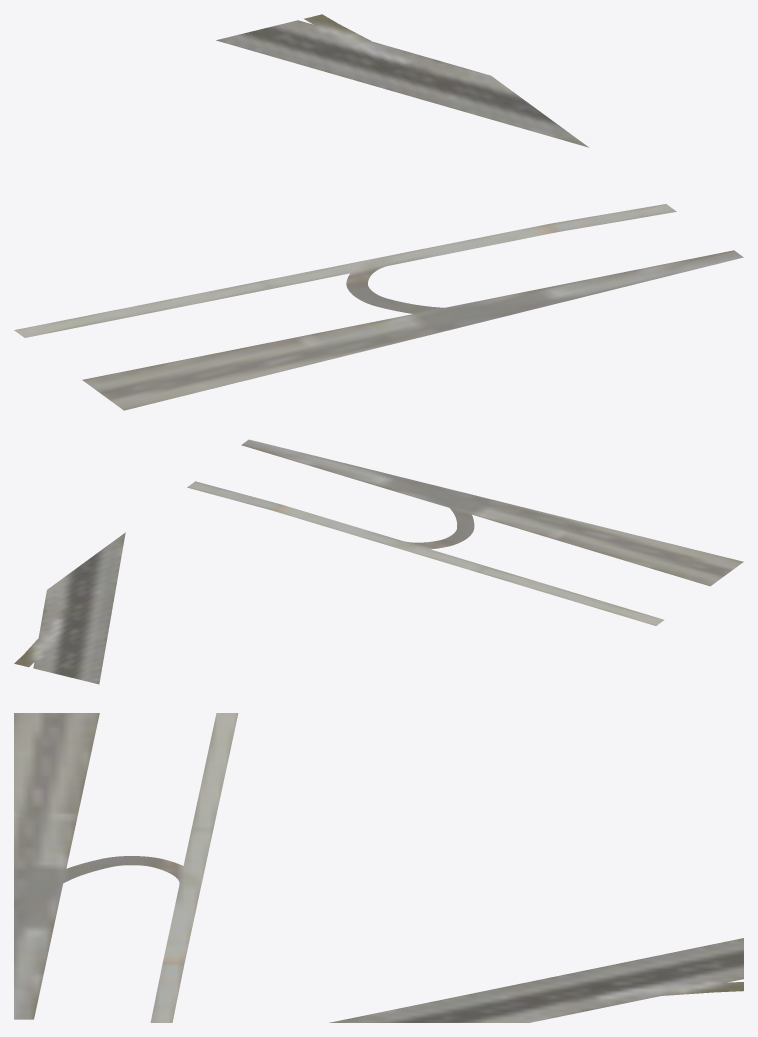
Rendered from LSZH_-1_0.glb.
3 renders of one model, top to bottom at view 1: azimuth 30°, elevation 25°; view 2: azimuth 150°, elevation 25°; view 3: azimuth 270°, elevation 25°, orthographic. The views are drawn at different scales.
Parts seen in each view (by area): view 1: pavement_LSZH_pavement_5366_2514; view 2: pavement_LSZH_pavement_5366_2514; view 3: pavement_LSZH_pavement_5366_2514.
Boxes of the visible parts, x1=… form: pavement_LSZH_pavement_5366_2514: x1=14, y1=14, x2=743, y2=410; pavement_LSZH_pavement_5366_2514: x1=14, y1=439, x2=743, y2=684; pavement_LSZH_pavement_5366_2514: x1=14, y1=713, x2=743, y2=1022.
Bounding box in the file's own units: 500 × 2.59 × 500.
Materials: 1 (1 with a texture image).
